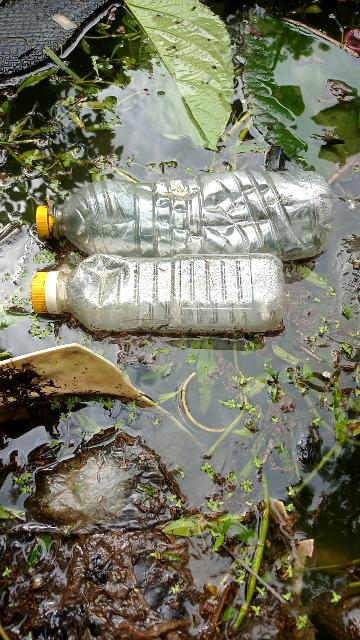bottle: (19, 177, 335, 340)
